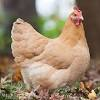buff: (66, 7, 86, 29)
